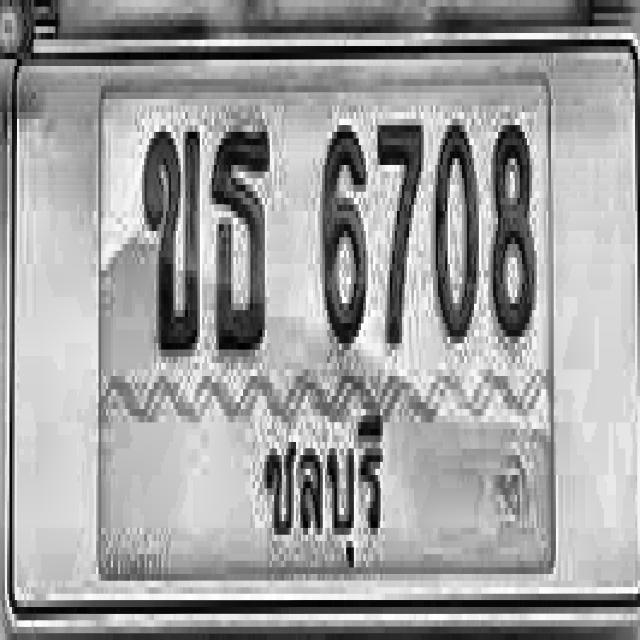license-plate: (5, 48, 640, 623)
